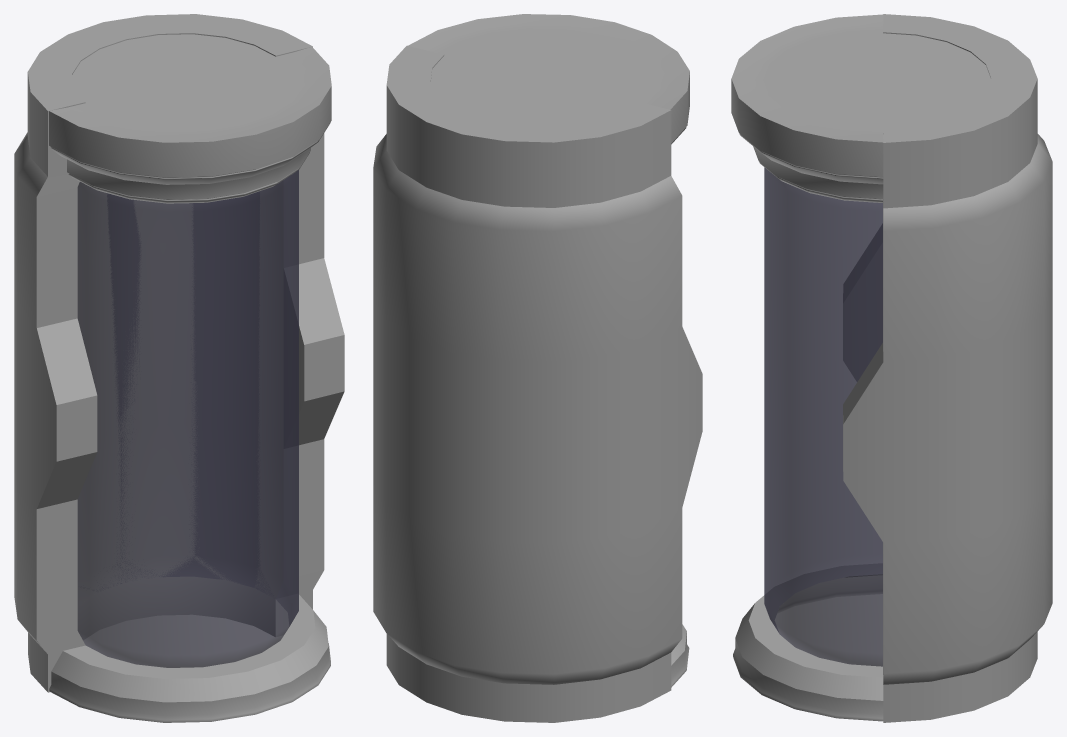
The model's file is Environment_Tube_002_Blockout.fbx.
3 views of the same model, side by side, from view 1: azimuth 30°, elevation 25°; view 2: azimuth 150°, elevation 25°; view 3: azimuth 270°, elevation 25° (orthographic).
Visible parts, largest first — view 1: polySurface32; view 2: polySurface32; view 3: polySurface32.
Part boxes in pixels (x1=…): polySurface32: x1=14, y1=14, x2=344, y2=722; polySurface32: x1=373, y1=14, x2=702, y2=722; polySurface32: x1=731, y1=14, x2=1052, y2=722.
Bounding box in the file's own units: 175 × 338 × 170.
